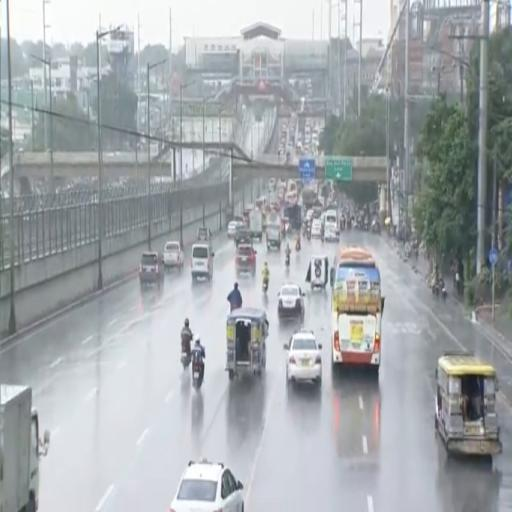bus: (331, 248, 384, 373)
car: (170, 460, 244, 511), (284, 329, 321, 385), (278, 283, 305, 319), (139, 252, 164, 289), (236, 245, 256, 276), (164, 242, 184, 269), (234, 227, 252, 247), (228, 220, 243, 238), (197, 227, 212, 242), (311, 219, 322, 238), (269, 179, 276, 189)
jeepney: (435, 352, 502, 455), (226, 308, 268, 379)
motorcycle: (192, 363, 202, 391), (181, 342, 190, 369), (230, 302, 241, 312), (432, 283, 439, 298), (441, 285, 447, 301), (262, 280, 268, 294), (285, 253, 290, 267), (295, 239, 300, 251), (364, 219, 369, 231), (307, 229, 311, 241)
truck: (0, 384, 49, 511), (266, 213, 281, 250), (249, 210, 263, 241)
